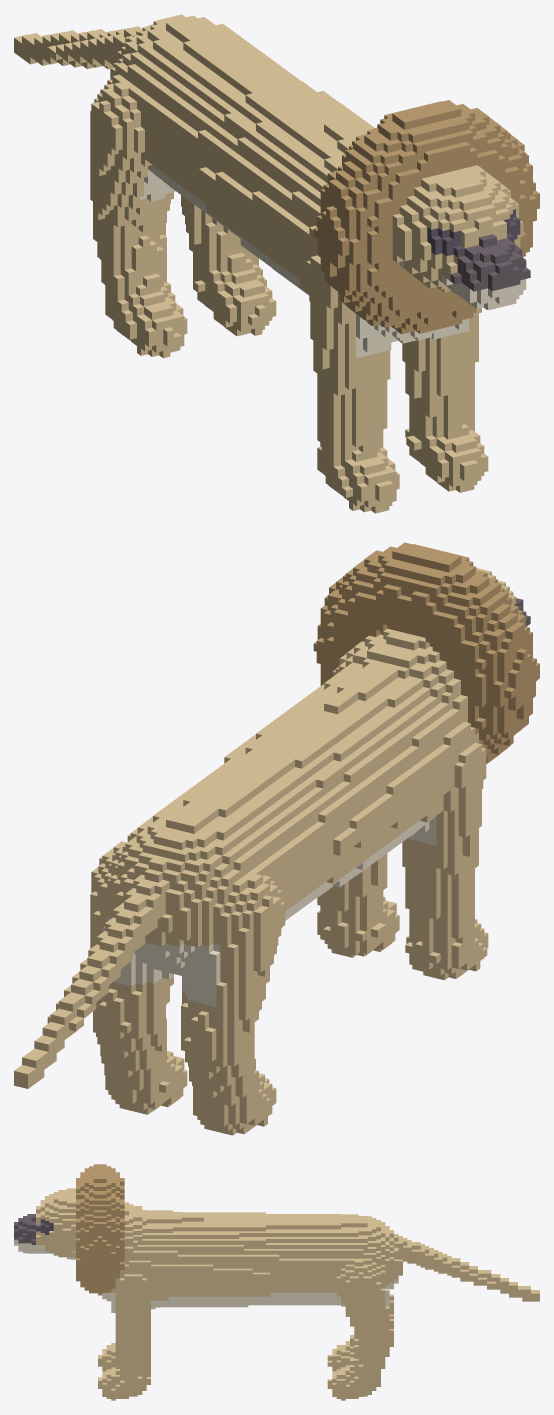
Rendered from lion.glb.
The picture shows the model from 3 angles, top to bottom: view 1: azimuth 30°, elevation 25°; view 2: azimuth 150°, elevation 25°; view 3: azimuth 270°, elevation 25°; orthographic projection. The views are drawn at different scales.
Parts seen in each view (by area): view 1: item; view 2: item; view 3: item.
Boxes of the visible parts, x1,y1,x2,y2 form: item: (14, 14, 539, 513); item: (14, 542, 539, 1135); item: (14, 1164, 539, 1400).
Size of the model in its own units: 28 by 53 by 119.
